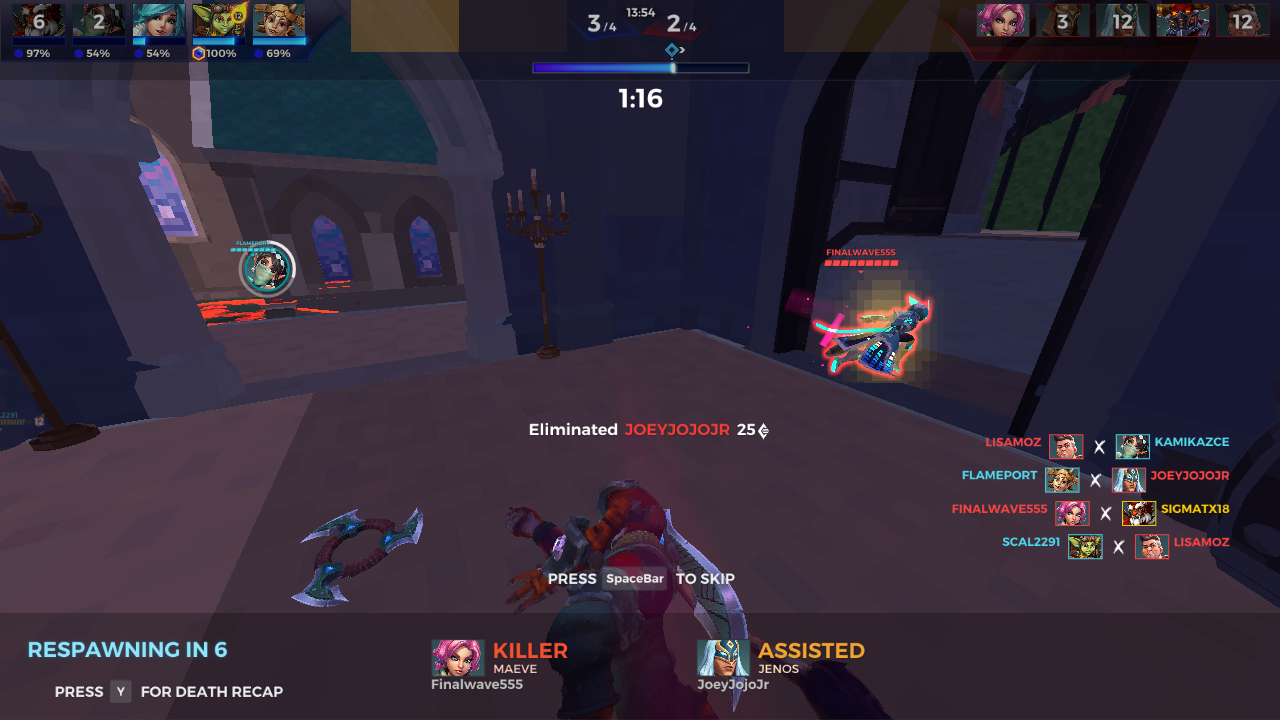model: (804, 282, 940, 383)
